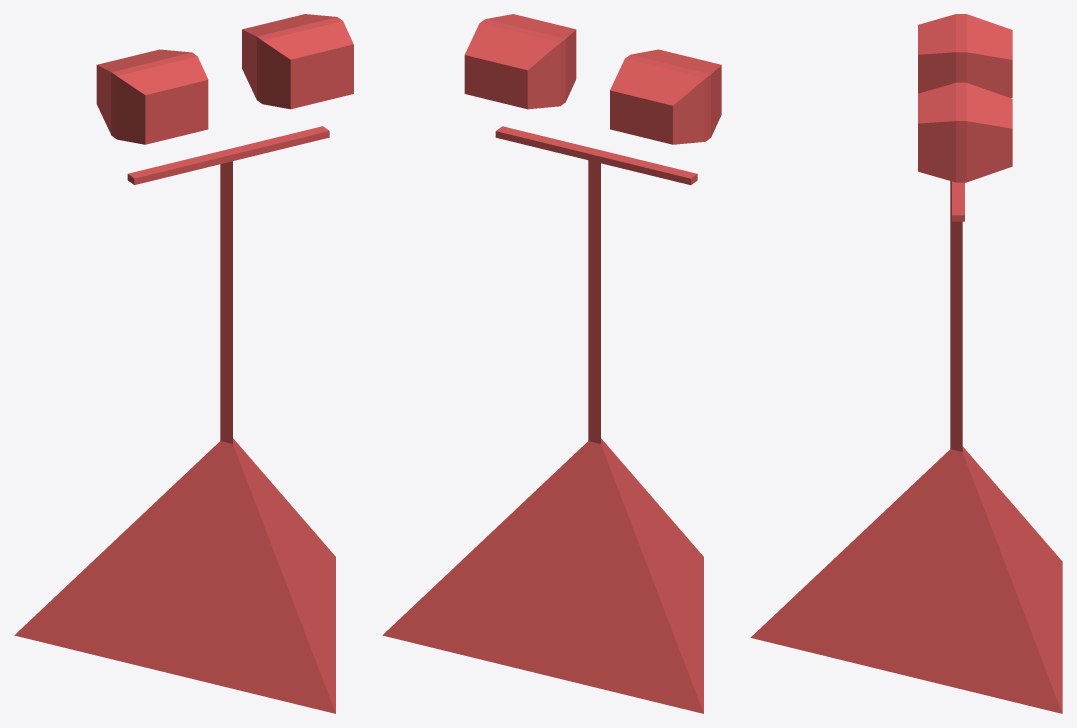
File: mesh_worklight_COLLISION.fbx
3 renders of one model, left to right at view 1: azimuth 30°, elevation 25°; view 2: azimuth 150°, elevation 25°; view 3: azimuth 270°, elevation 25°, orthographic. The views are drawn at different scales.
Visible parts, largest first — view 1: mesh_worklight_COLLISION; view 2: mesh_worklight_COLLISION; view 3: mesh_worklight_COLLISION.
Boxes of the visible parts, x1,y1,x2,y2 form: mesh_worklight_COLLISION: [14, 14, 353, 713]; mesh_worklight_COLLISION: [382, 14, 721, 713]; mesh_worklight_COLLISION: [750, 14, 1062, 713].
Size of the model in its own units: 2.63 by 4.58 by 2.27.
